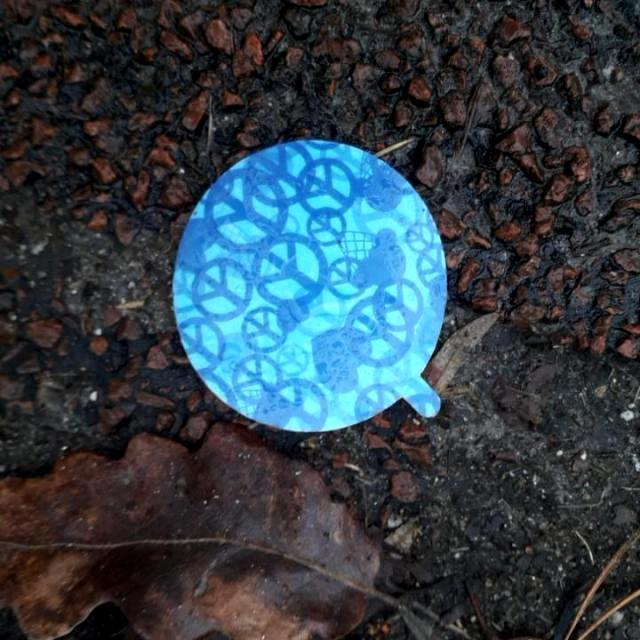Paper: (168, 135, 452, 437)
